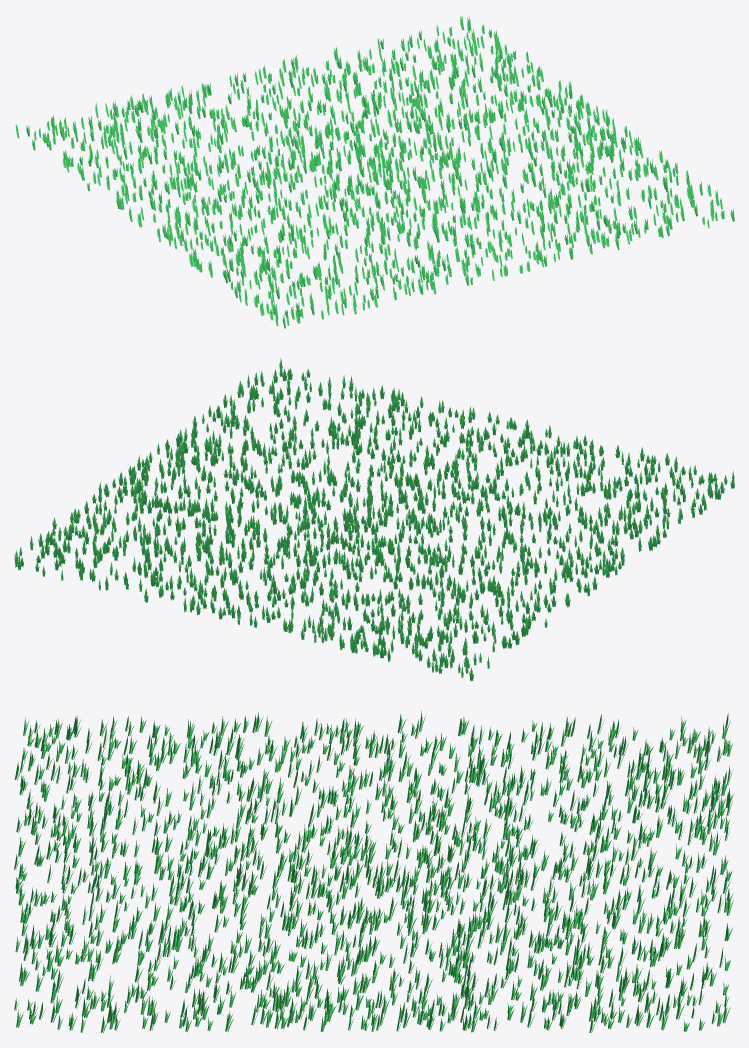
File: Grass10.fbx
3 views of the same model, one above another, from view 1: azimuth 30°, elevation 25°; view 2: azimuth 150°, elevation 25°; view 3: azimuth 270°, elevation 25° (orthographic). The views are drawn at different scales.
Visible parts, largest first — view 1: Grass10; view 2: Grass10; view 3: Grass10.
Part boxes in pixels (x1,y1,x2,y2): Grass10: [15, 16, 734, 328]; Grass10: [14, 358, 734, 681]; Grass10: [14, 711, 733, 1033].
Bounding box in the file's own units: 1009 × 34.01 × 1011.
